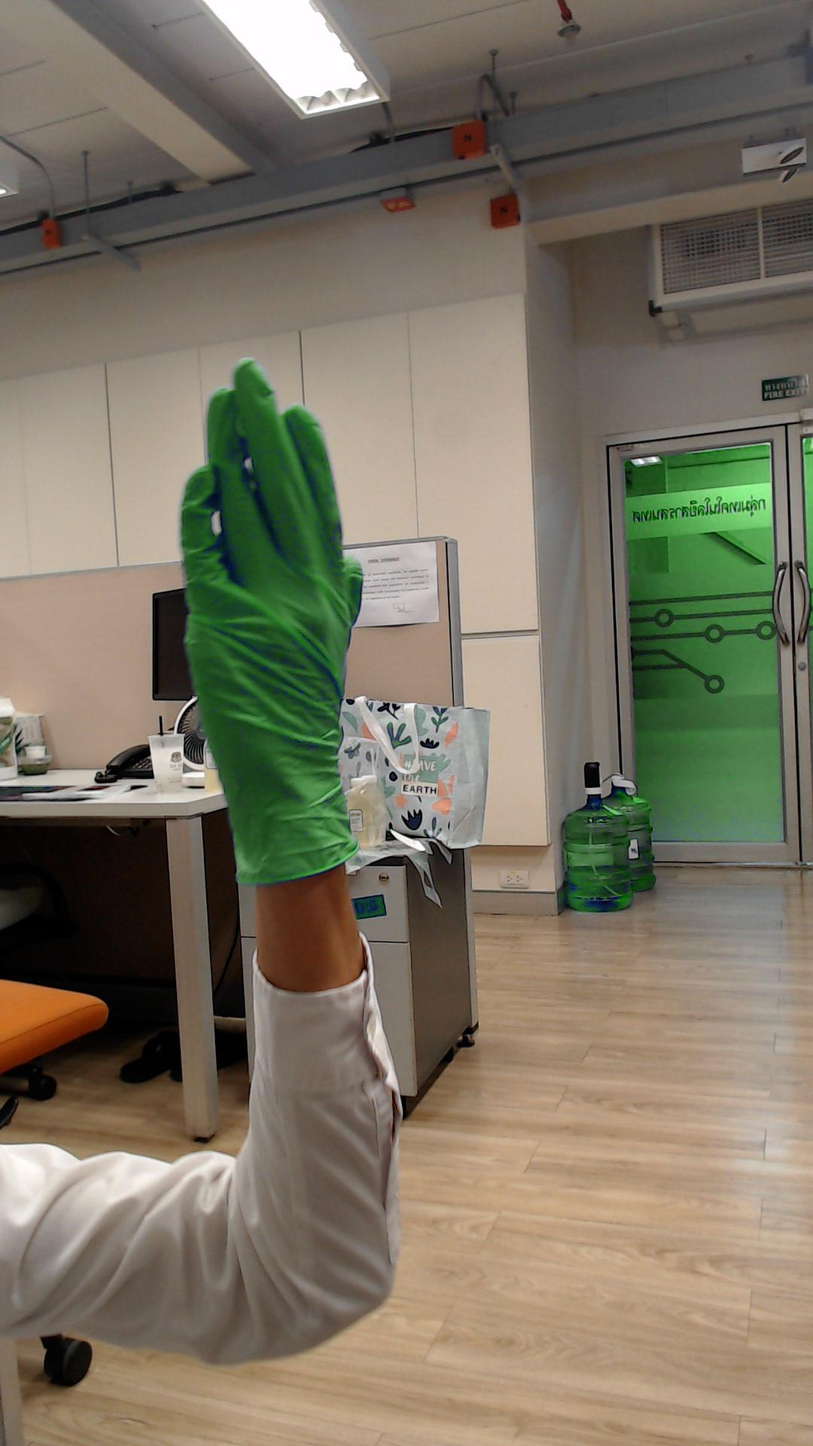gloves: (167, 346, 373, 757)
